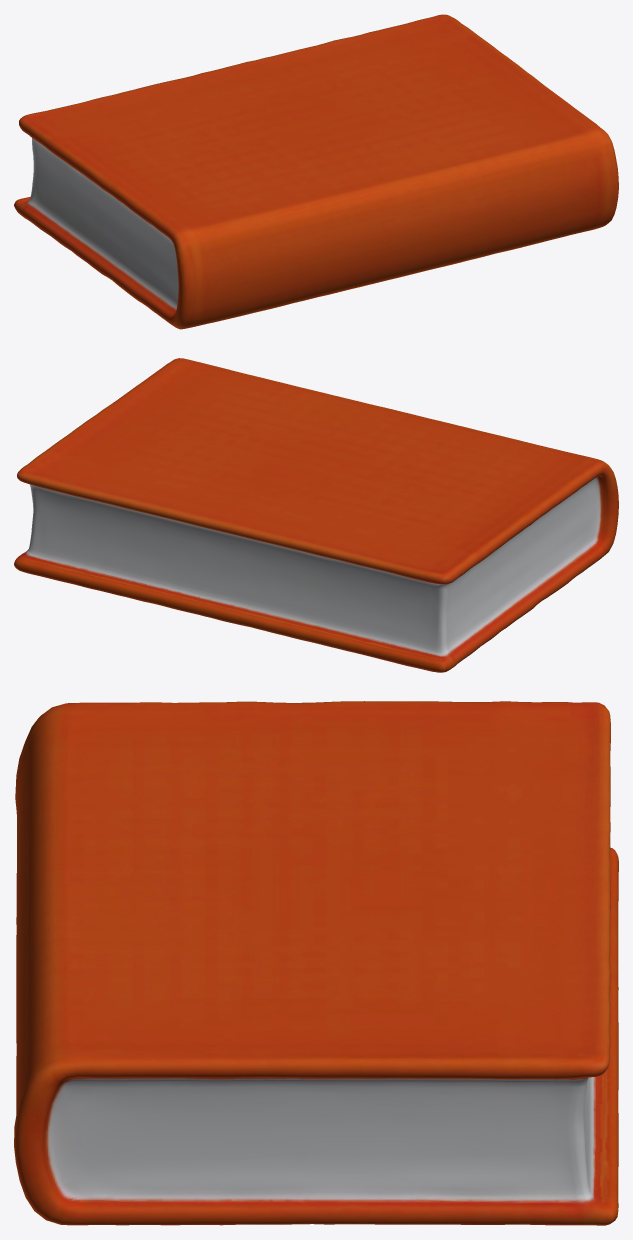
Rendered from 690f7b525fc5_orange_book__3d_ass.fbx.
3 views of the same model, one above another, from view 1: azimuth 30°, elevation 25°; view 2: azimuth 150°, elevation 25°; view 3: azimuth 270°, elevation 25° (orthographic). The views are drawn at different scales.
Parts seen in each view (by area): view 1: mesh; view 2: mesh; view 3: mesh.
Boxes of the visible parts, x1,y1,x2,y2 form: mesh: [14, 14, 618, 329]; mesh: [14, 358, 618, 672]; mesh: [14, 701, 618, 1225].
Size of the model in its own units: 99.92 by 21.41 by 69.48.
